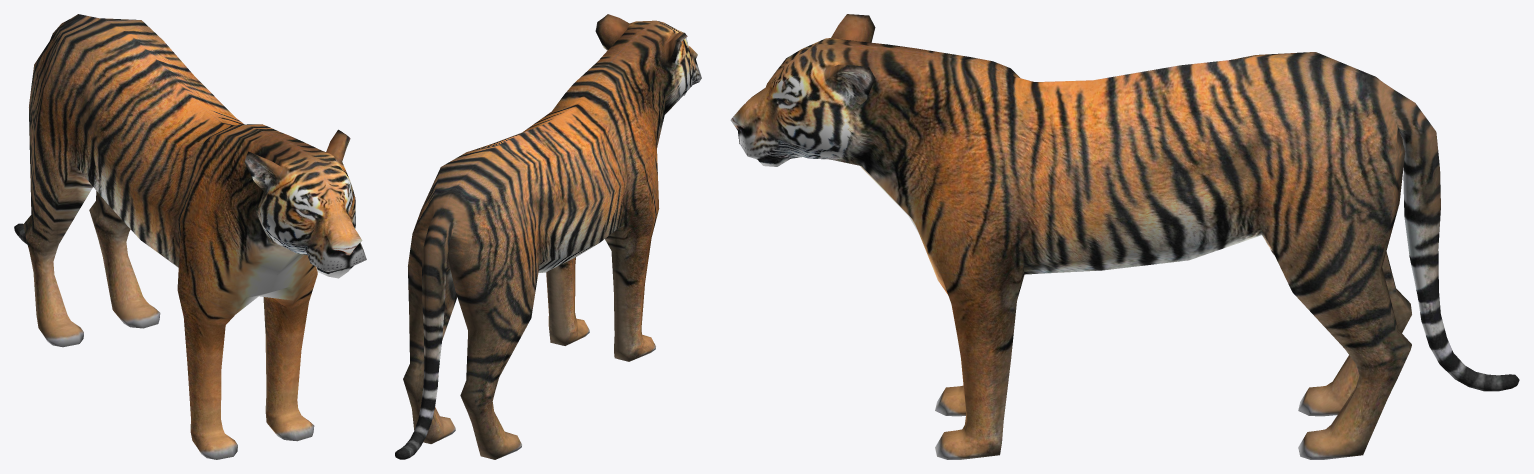
File: lion.gltf
3 views of the same model, side by side, from view 1: azimuth 30°, elevation 25°; view 2: azimuth 150°, elevation 25°; view 3: azimuth 270°, elevation 25° (orthographic). The views are drawn at different scales.
Visible parts, largest first — view 1: Tiger_Cylinder.014; view 2: Tiger_Cylinder.014; view 3: Tiger_Cylinder.014.
Part boxes in pixels (x1,y1,x2,y2): Tiger_Cylinder.014: (14,14,366,459); Tiger_Cylinder.014: (395,14,701,459); Tiger_Cylinder.014: (730,14,1519,459).
Size of the model in its own units: 1.54 by 3.67 by 6.74.
1 material, 1 textured.
